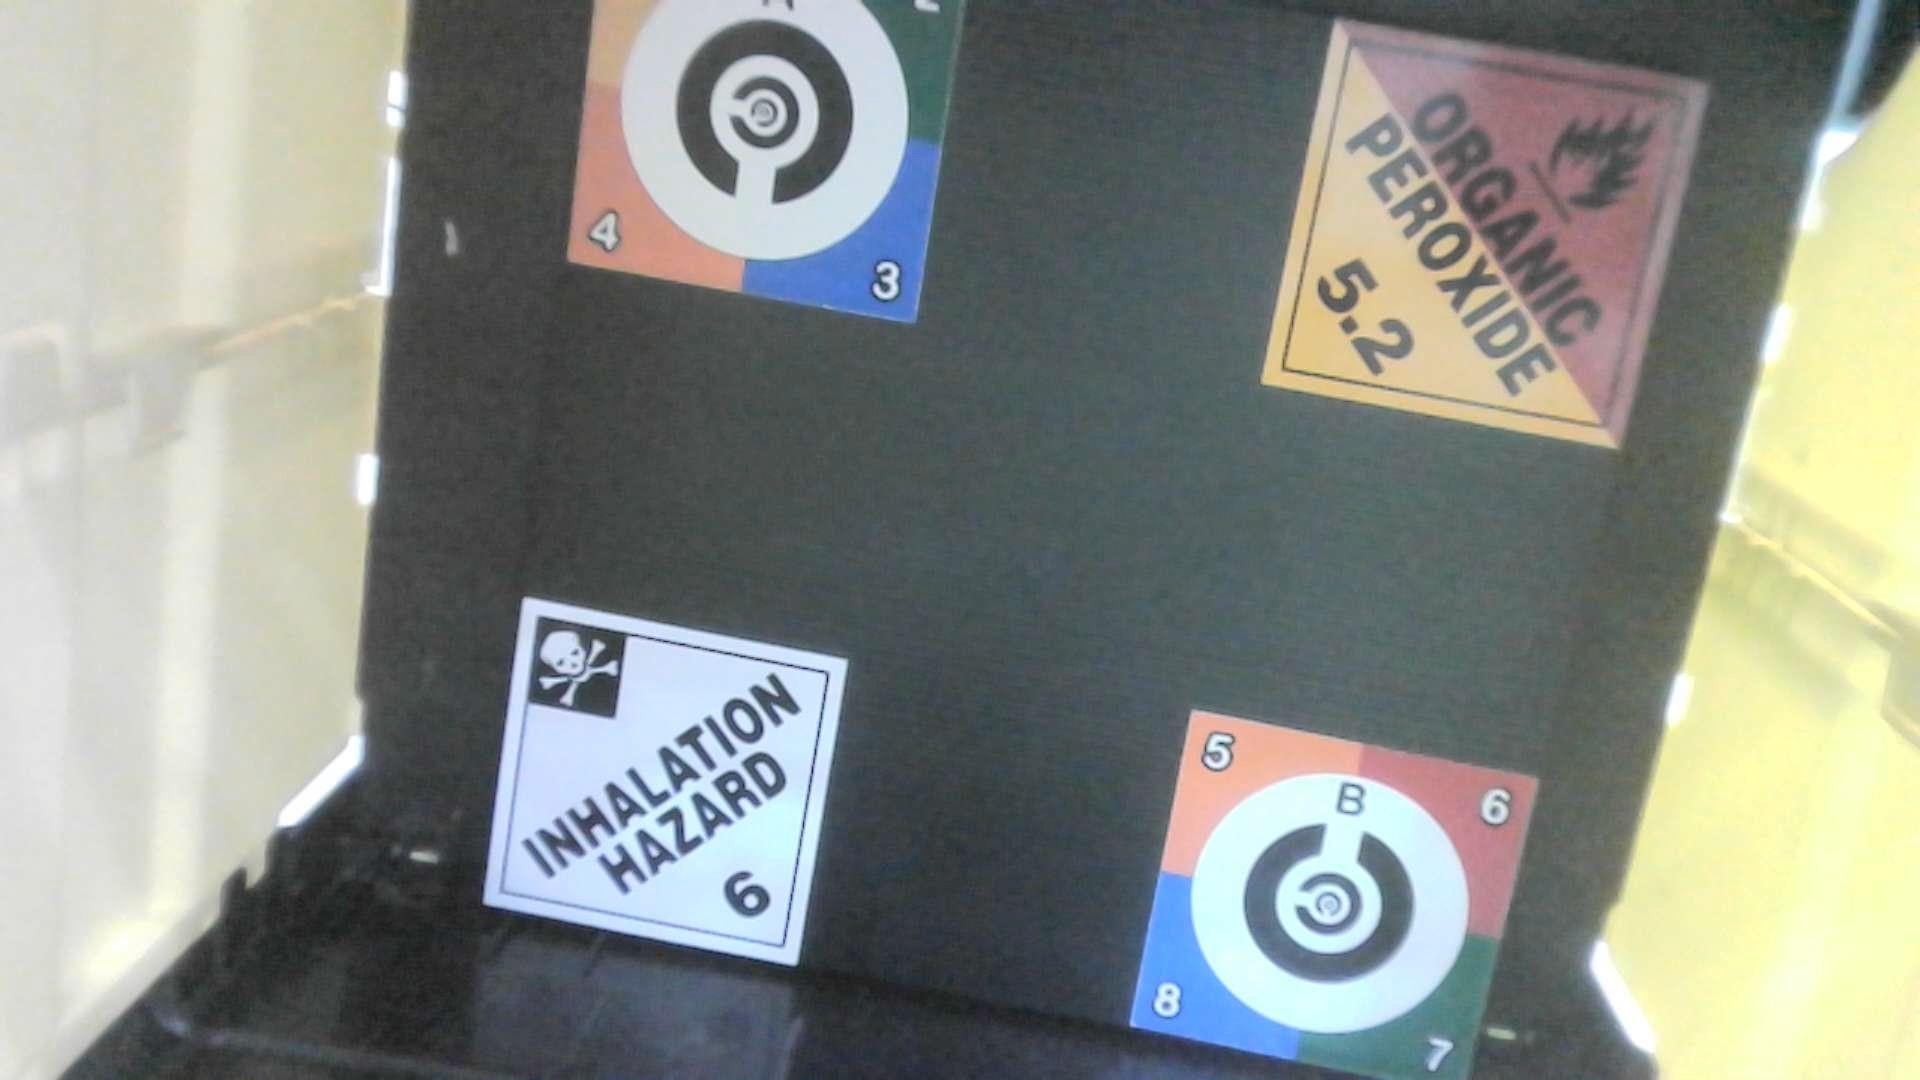organic-peroxide: (1257, 18, 1720, 465)
poison: (479, 589, 855, 976)
